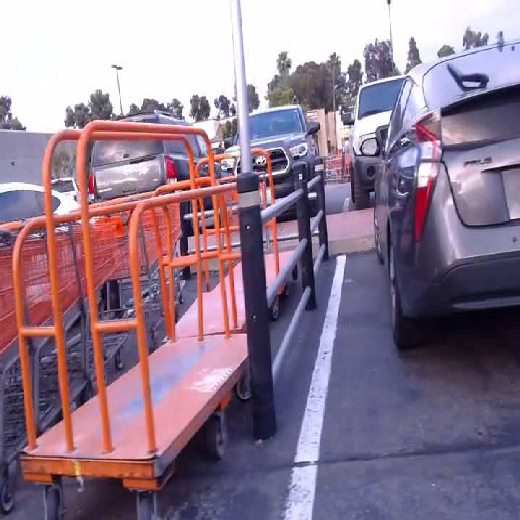vehicle: (374, 53, 520, 352)
